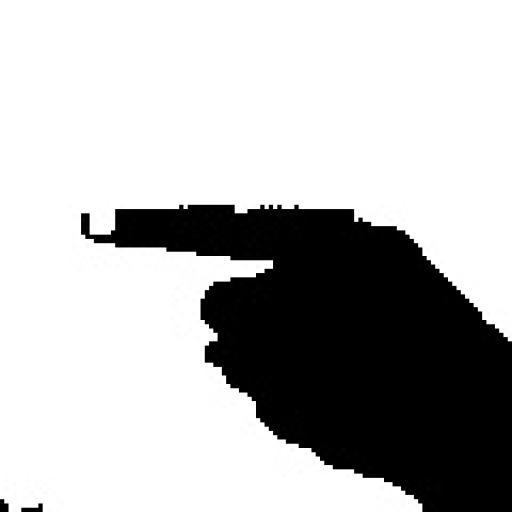index_left: (80, 201, 512, 392)
